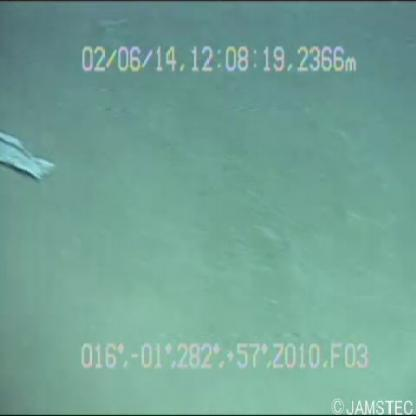Rác: (1, 91, 54, 191)
